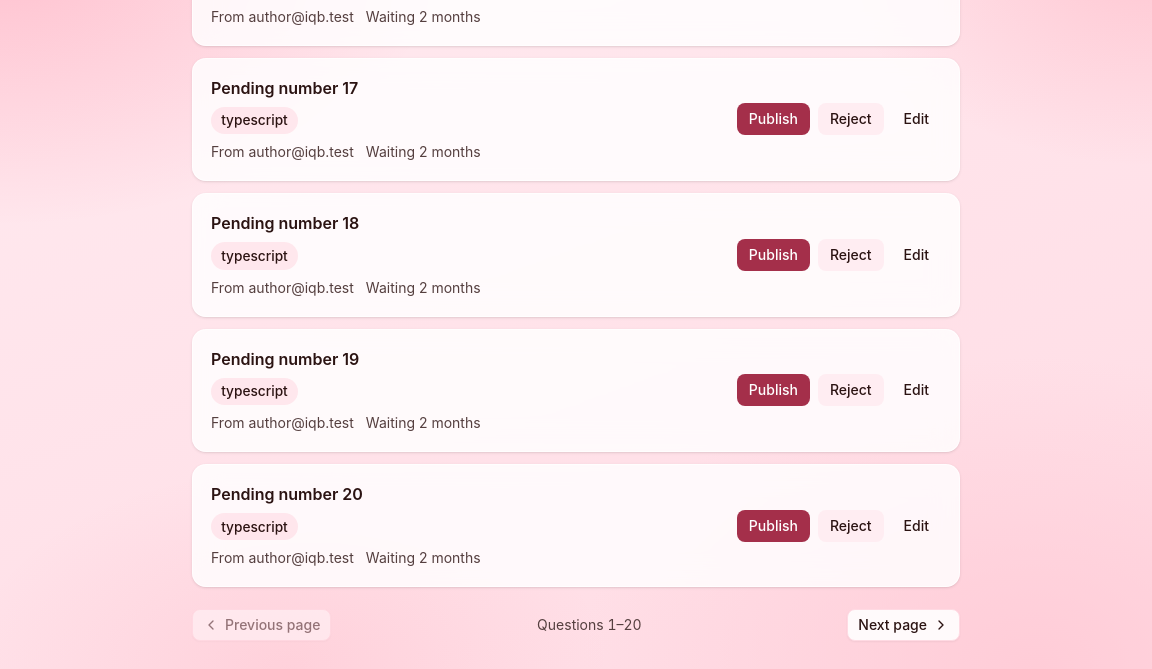
Test: the Reviewer's Pending queue › asks for the next page, and the address says which page it is on
(page scrolled)
Step 1. Click the button "Next page" → (904, 625), box [847, 609, 960, 641]
(page scrolled)
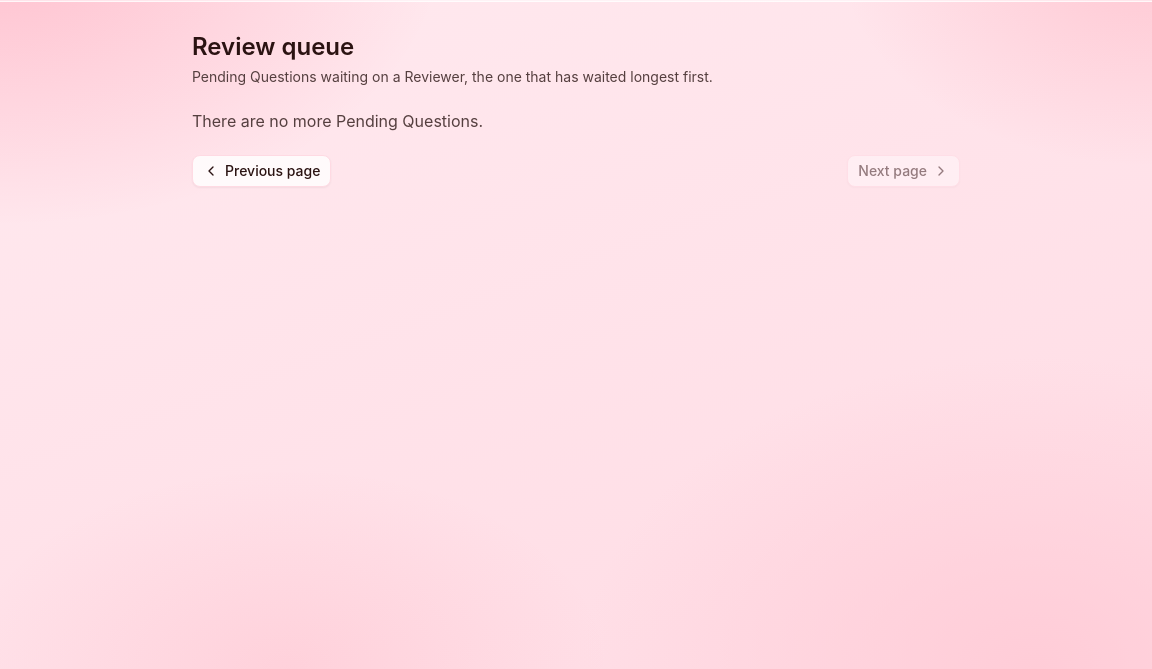
Check: the text "There are no more Pending Questions." is shown, box [192, 111, 483, 131]
